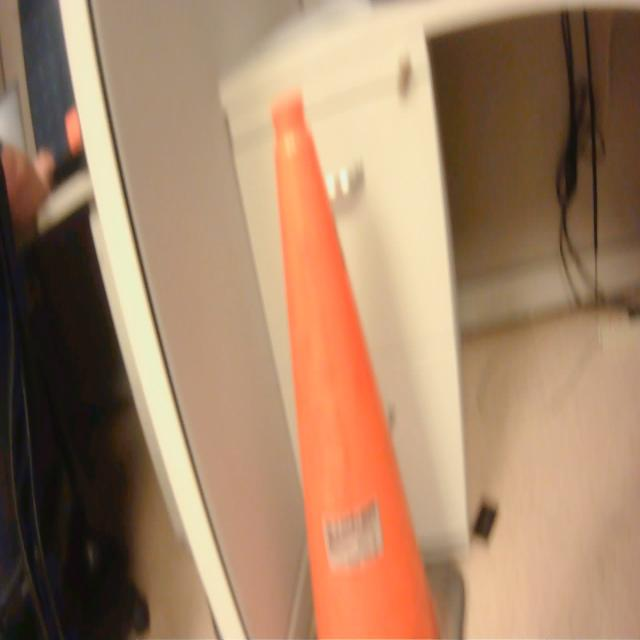traffic cone: (266, 80, 475, 640)
